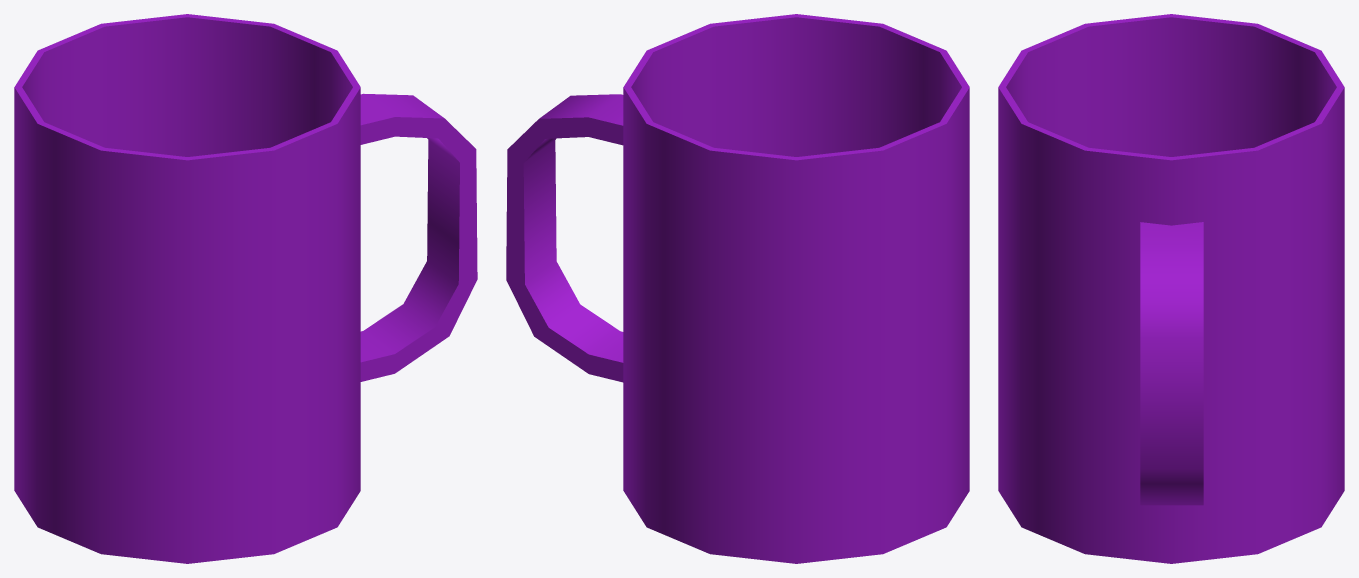
The model's file is shop cont cup lod0.FBX.
The picture shows the model from 3 angles, left to right: view 1: azimuth 30°, elevation 25°; view 2: azimuth 150°, elevation 25°; view 3: azimuth 270°, elevation 25°; orthographic projection.
Parts seen in each view (by area): view 1: Cylinder268; view 2: Cylinder268; view 3: Cylinder268.
Part boxes in pixels (x1=…): Cylinder268: x1=14, y1=14, x2=477, y2=563; Cylinder268: x1=506, y1=14, x2=969, y2=563; Cylinder268: x1=998, y1=14, x2=1344, y2=563.
Bounding box in the file's own units: 0.198 × 0.18 × 0.14.
